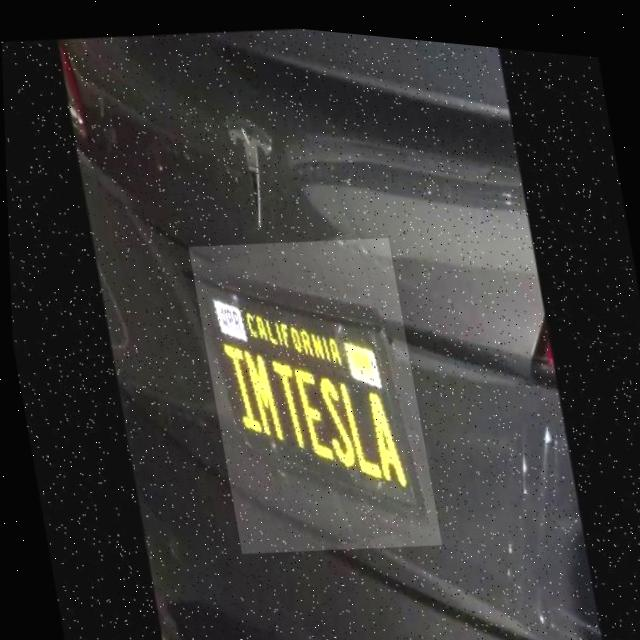LicensePlate: (186, 215, 439, 565)
